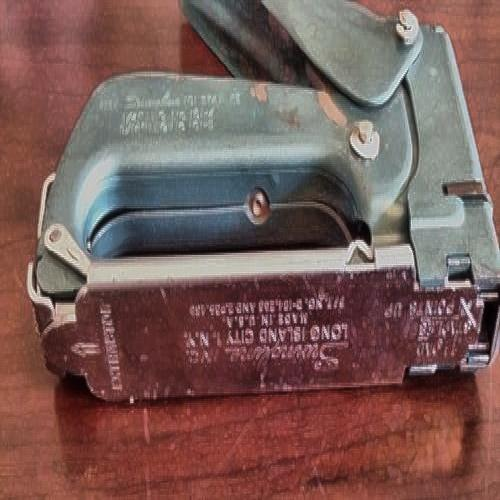stapler: (44, 53, 481, 405)
